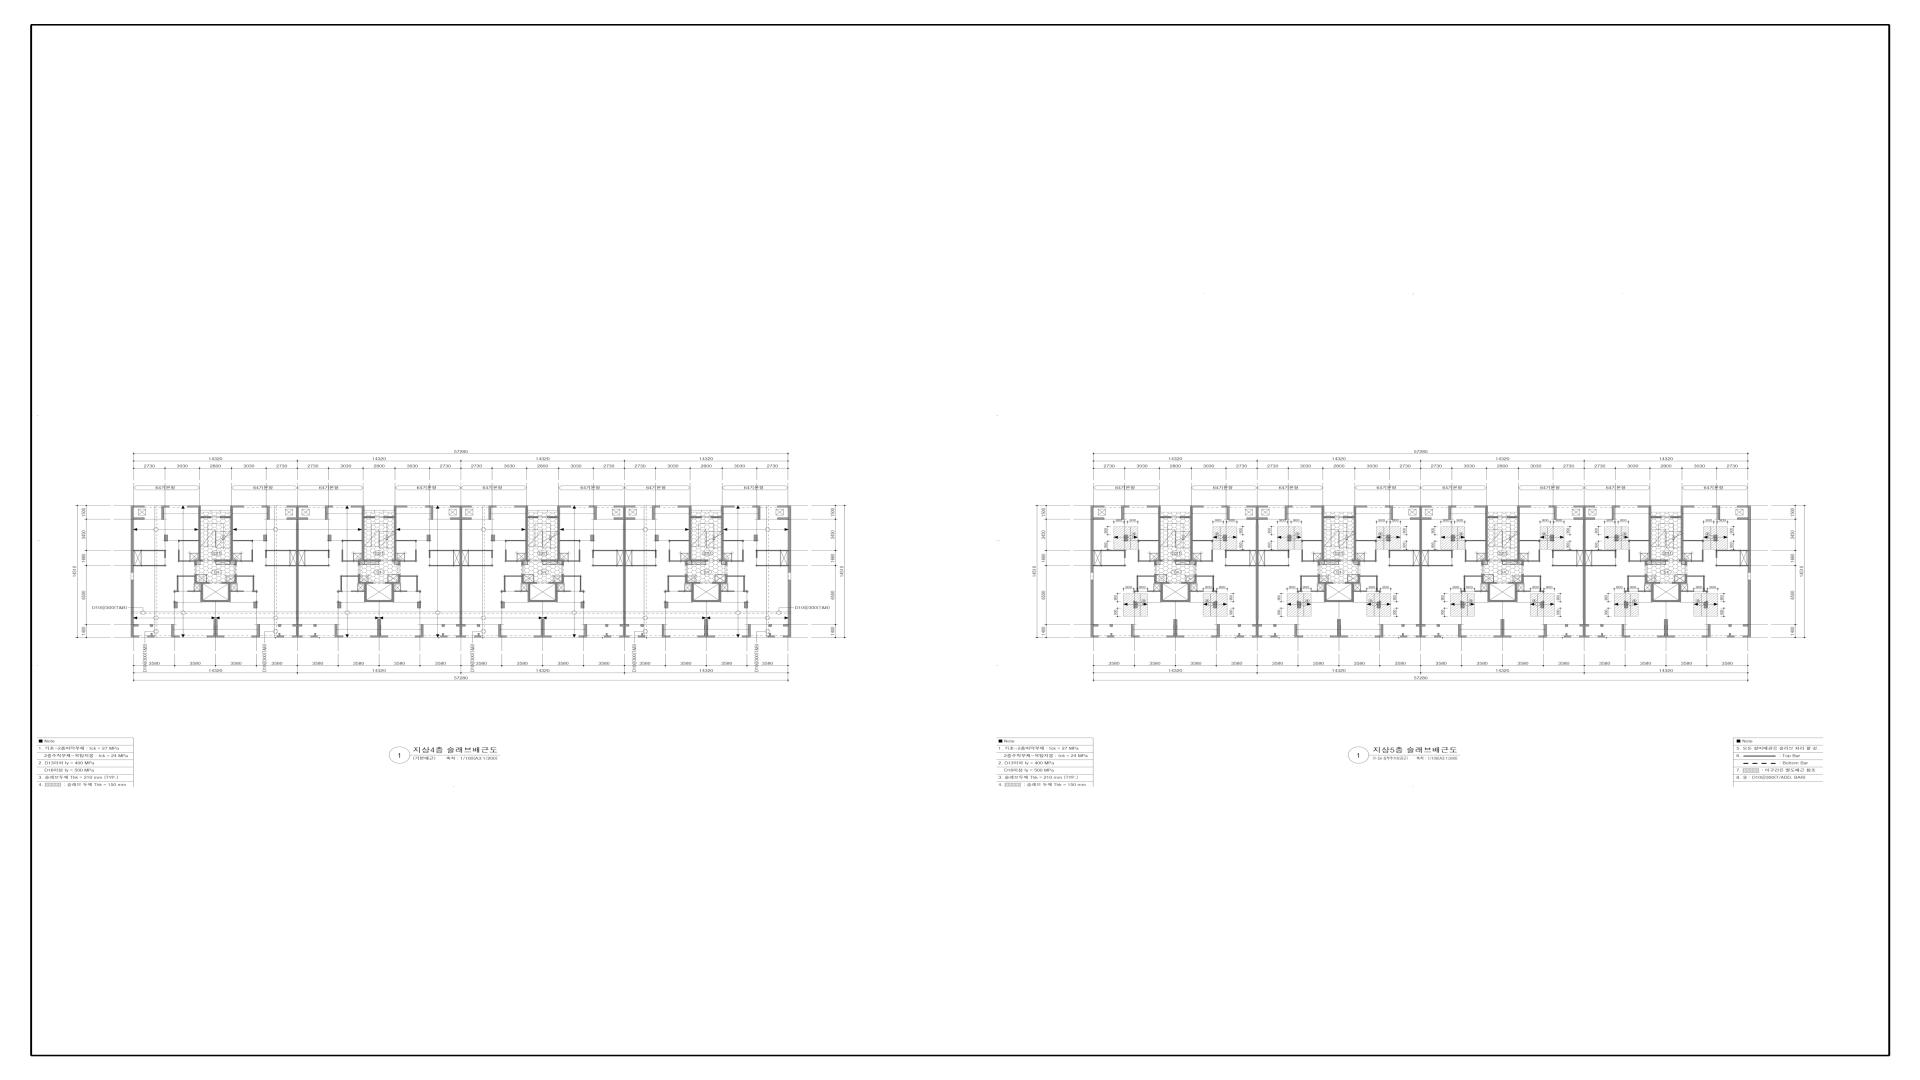wall: (778, 506, 791, 572), (230, 505, 244, 565), (557, 506, 571, 565), (721, 506, 735, 565), (678, 506, 692, 565), (394, 505, 407, 565), (351, 506, 364, 565), (515, 506, 528, 565), (712, 574, 728, 602), (194, 574, 209, 602), (222, 574, 237, 602), (358, 574, 373, 602), (385, 574, 400, 602), (522, 574, 537, 602), (685, 574, 700, 602), (549, 574, 564, 602), (698, 619, 715, 638), (623, 520, 626, 624), (207, 619, 224, 637), (371, 619, 388, 637), (534, 619, 551, 637), (296, 524, 299, 620), (756, 550, 789, 558), (287, 506, 308, 518), (450, 506, 471, 518), (614, 506, 635, 518), (429, 550, 460, 558), (592, 550, 623, 558), (462, 550, 493, 558), (626, 550, 656, 558), (460, 520, 462, 624), (400, 550, 417, 562), (178, 550, 194, 562), (237, 550, 253, 562), (342, 550, 358, 562), (505, 550, 521, 562), (669, 550, 685, 562), (564, 550, 580, 562), (728, 550, 744, 562), (292, 620, 302, 637), (198, 510, 201, 560), (456, 624, 466, 637), (171, 624, 180, 637), (498, 624, 507, 637), (742, 624, 751, 637), (620, 624, 629, 637), (262, 506, 270, 520), (325, 506, 333, 520), (652, 506, 660, 520), (425, 506, 433, 520), (589, 506, 597, 520), (131, 520, 133, 572), (252, 624, 260, 637), (335, 624, 343, 637), (662, 624, 670, 637), (415, 624, 423, 637), (579, 624, 587, 637), (783, 624, 791, 637), (162, 506, 169, 520), (489, 506, 496, 520), (753, 506, 760, 520), (131, 580, 133, 624), (131, 626, 139, 637), (789, 580, 791, 624), (530, 600, 555, 602), (694, 600, 719, 602), (203, 600, 228, 602), (367, 600, 392, 602), (194, 560, 203, 565), (450, 518, 472, 520), (287, 518, 308, 520), (614, 518, 635, 520), (396, 540, 417, 542), (505, 540, 526, 542), (178, 540, 198, 542), (233, 540, 253, 542), (342, 540, 362, 542), (560, 540, 580, 542), (724, 540, 744, 542), (669, 540, 689, 542), (131, 517, 144, 520), (364, 560, 381, 562), (133, 550, 166, 551), (133, 565, 166, 566), (778, 517, 789, 520), (756, 565, 789, 566), (214, 560, 230, 562), (541, 560, 557, 562), (692, 560, 708, 562), (265, 550, 296, 551), (265, 565, 296, 566), (429, 565, 460, 566), (592, 565, 623, 566), (462, 565, 493, 566), (768, 633, 774, 638), (299, 550, 329, 551), (299, 565, 329, 566), (626, 565, 656, 566), (147, 633, 154, 637), (174, 601, 178, 608), (277, 633, 284, 637), (311, 633, 318, 637), (474, 633, 481, 637), (638, 633, 645, 637), (604, 633, 611, 637), (337, 601, 341, 608), (501, 601, 505, 608), (417, 601, 421, 608), (744, 601, 748, 608), (416, 577, 418, 591), (164, 535, 168, 541), (263, 535, 267, 541), (441, 633, 447, 637), (427, 535, 431, 541), (491, 535, 495, 541), (655, 535, 659, 541), (754, 535, 758, 541), (131, 507, 133, 518), (547, 516, 558, 518), (254, 601, 257, 608), (665, 601, 668, 608), (581, 601, 584, 608), (692, 516, 702, 518), (201, 516, 211, 518), (220, 516, 230, 518), (364, 516, 374, 518), (384, 516, 394, 518), (528, 516, 538, 518), (711, 516, 721, 518), (328, 535, 331, 541), (591, 535, 594, 541), (400, 576, 418, 577), (504, 576, 522, 577), (177, 576, 194, 577), (237, 576, 254, 577), (341, 576, 358, 577), (564, 576, 581, 577), (668, 576, 685, 577), (728, 576, 745, 577), (164, 551, 166, 558), (131, 624, 138, 626), (187, 506, 201, 507), (177, 577, 178, 591), (187, 591, 201, 592), (253, 577, 254, 591), (230, 591, 244, 592), (265, 551, 267, 558), (341, 577, 342, 591), (504, 577, 505, 591), (580, 577, 581, 591), (668, 577, 669, 591), (744, 577, 745, 591), (678, 591, 691, 592), (721, 591, 734, 592), (131, 506, 144, 507), (351, 591, 364, 592), (394, 591, 407, 592), (515, 591, 528, 592), (558, 591, 571, 592), (296, 520, 299, 524), (337, 591, 343, 593), (579, 591, 584, 593), (665, 591, 670, 593), (743, 591, 748, 593), (174, 591, 179, 593), (252, 591, 257, 593), (416, 591, 421, 593), (501, 591, 506, 593), (150, 624, 153, 627), (198, 507, 201, 510), (278, 624, 281, 627), (314, 624, 317, 627), (477, 624, 480, 627), (641, 624, 644, 627), (442, 624, 445, 627), (605, 624, 608, 627), (769, 624, 772, 627), (328, 551, 329, 558), (392, 560, 394, 562), (528, 560, 530, 562), (719, 560, 721, 562)
